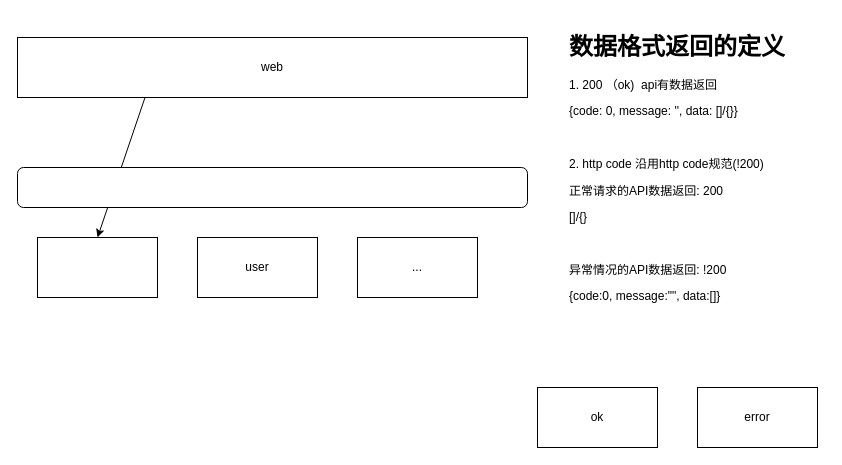
Some shapes in this 842 by 465 pixel diagram are drawn without their labels. The shapes that lost their labels are listed below. From the top down, each one's centre as x and y in pixels, then its label:
(272,187): response: 统一返回的数据格式
(97,267): blog
